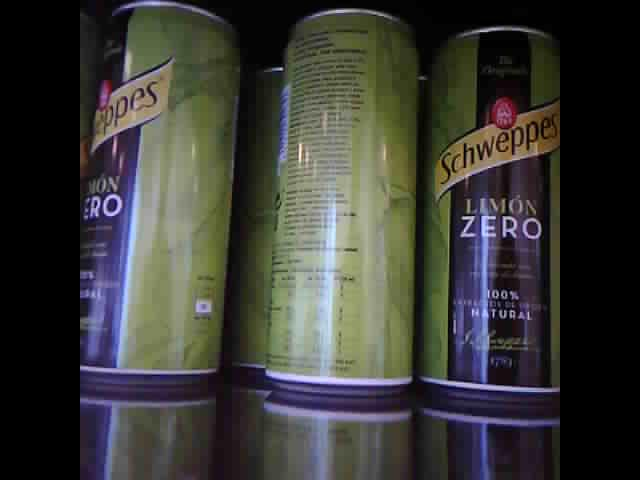schweppes: (80, 4, 241, 383), (263, 6, 416, 390), (420, 22, 562, 394), (240, 47, 283, 374)
